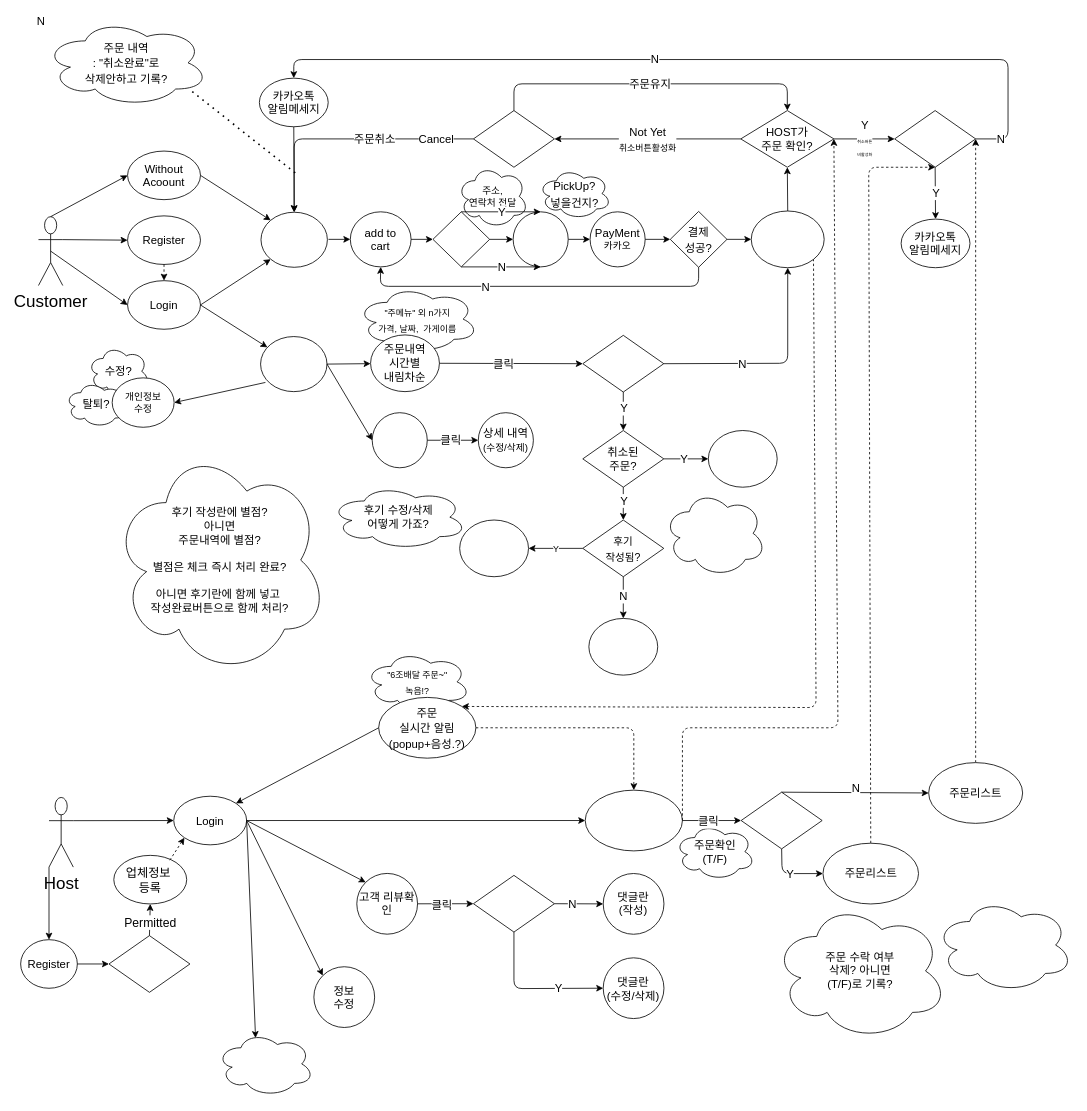
This 1087x1111 diagram has some shape labels left out. Each missing label, with the centre of its shape:
Host가 주문 수락?: (935,138)
LogIn?: (461,239)
Order 주소, 연락처 입력: (540,239)
View Menu: (293,239)
View MyPage: (293,364)
댓글 작성?: (513,903)
리뷰 관리: (399,440)
매출 관리?: (265,1063)
배달 확인(T/F): (1003,944)
운영진 승인?: (149,963)
주문 내역 삭제 버튼 필요?: (714,533)
주문 미확인 리스트 확인 (시간별 오름차순): (633,820)
주문 상세내역 (내역만): (742,458)
주문 상세내역 (후기 수정/삭제 버튼): (494,548)
주문 상세내역 (후기작성버튼): (623,646)
주문 수락?: (781,820)
주문 취소?: (513,138)
주문상세내역 (취소 버튼): (787,239)
주문처리 완료?: (623,363)
